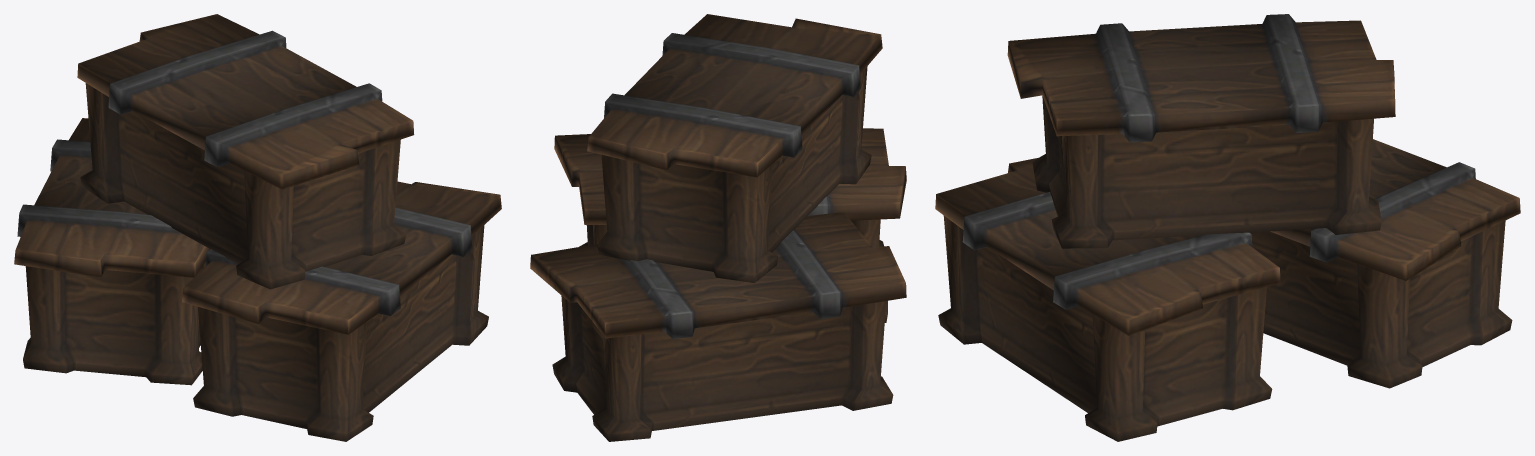
File: moba_muxiang_02.FBX
The picture shows the model from 3 angles, left to right: view 1: azimuth 30°, elevation 25°; view 2: azimuth 150°, elevation 25°; view 3: azimuth 270°, elevation 25°; orthographic projection. The views are drawn at different scales.
Visible parts, largest first — view 1: Object008; view 2: Object008; view 3: Object008.
Boxes of the visible parts, box(x1,y1,x2,y2) form: Object008: box(14, 14, 501, 441); Object008: box(530, 14, 906, 441); Object008: box(935, 14, 1520, 441).
Bounding box in the file's own units: 22.47 × 13.14 × 25.28.
